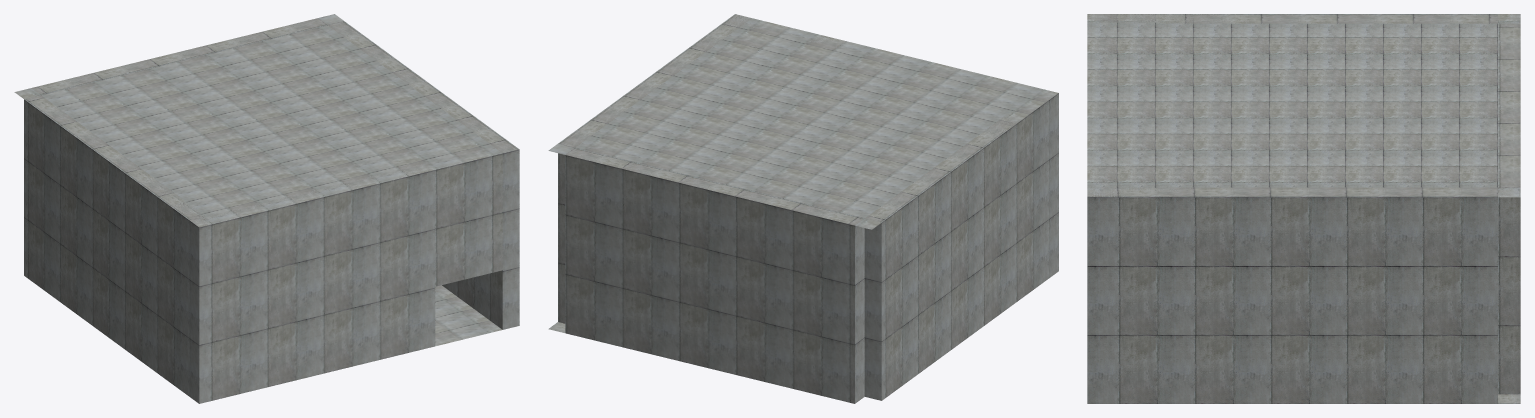
Rendered from Level_8.fbx.
3 views of the same model, side by side, from view 1: azimuth 30°, elevation 25°; view 2: azimuth 150°, elevation 25°; view 3: azimuth 270°, elevation 25° (orthographic). The views are drawn at different scales.
Parts seen in each view (by area): view 1: Wall.001; view 2: Wall.001; view 3: Wall.001.
Boxes of the visible parts, x1,y1,x2,y2 form: Wall.001: (14, 14, 519, 403); Wall.001: (548, 14, 1058, 403); Wall.001: (1087, 14, 1520, 403).
Bounding box in the file's own units: 19 × 19 × 10.
